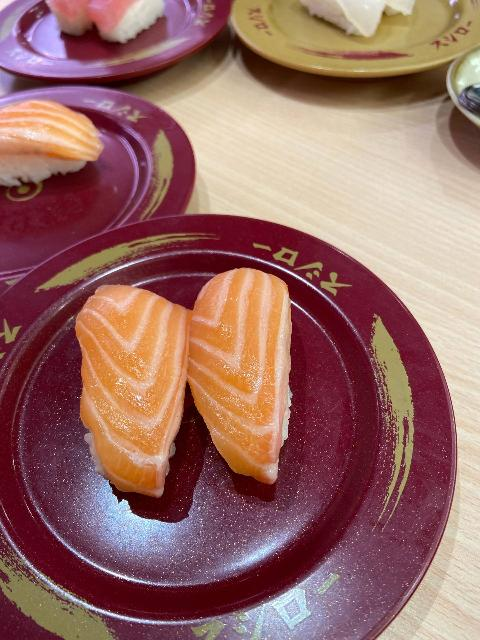jangold: (220, 0, 478, 89)
janred: (14, 226, 450, 630), (4, 85, 187, 264), (0, 0, 225, 85)
